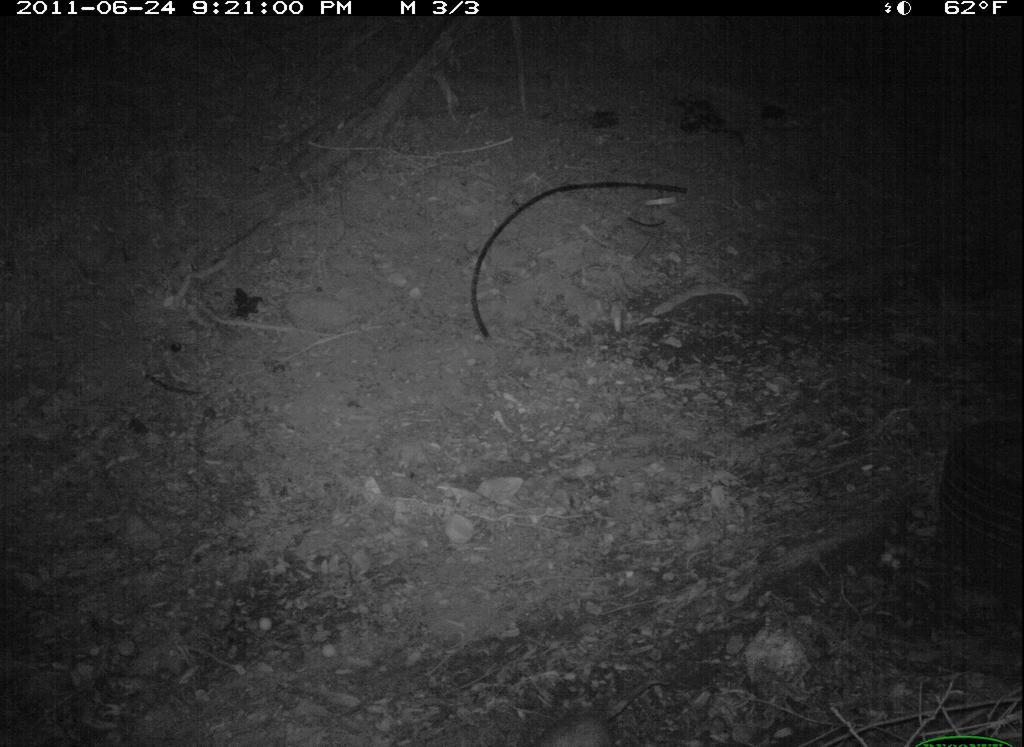opossum: (527, 675, 679, 747)
